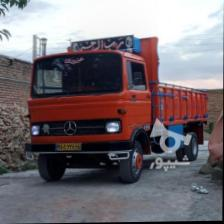plate: (54, 142, 80, 150)
